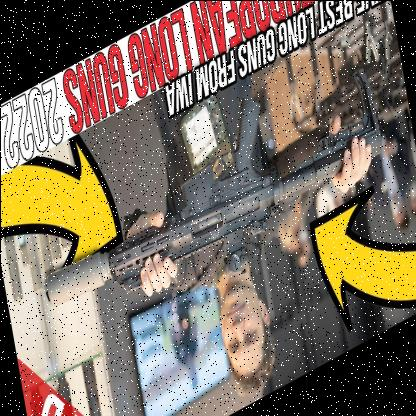rifle: (29, 24, 402, 364)
